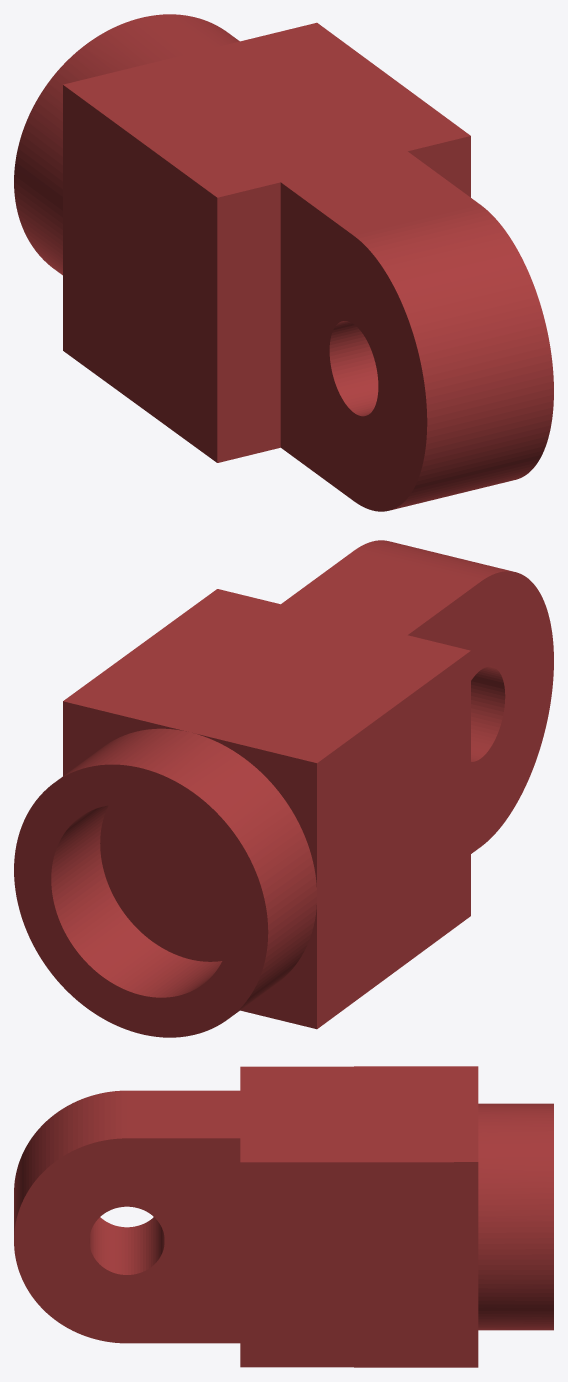
3 views of the same model, one above another, from view 1: azimuth 30°, elevation 25°; view 2: azimuth 150°, elevation 25°; view 3: azimuth 270°, elevation 25° (orthographic). The views are drawn at different scales.
Parts seen in each view (by area): view 1: node; view 2: node; view 3: node.
Boxes of the visible parts, x1,y1,x2,y2 form: node: (14, 14, 553, 511); node: (14, 540, 553, 1037); node: (14, 1066, 553, 1367).
Bounding box in the file's own units: 0.0714 × 0.0714 × 0.17.
